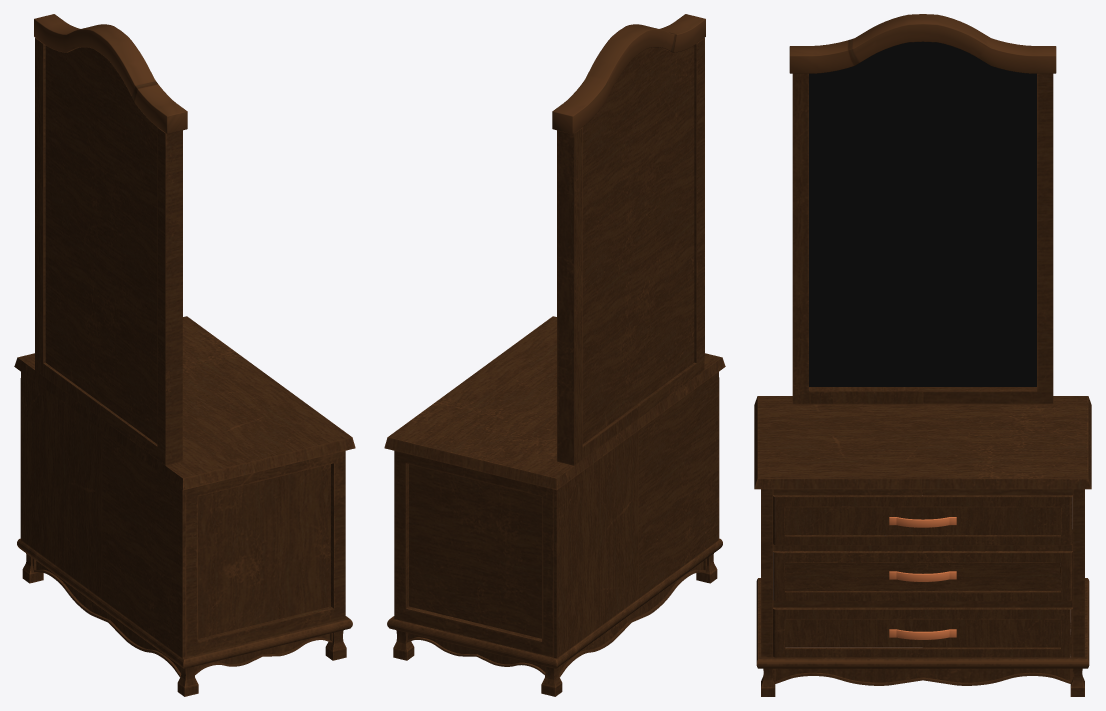
File: pbr_dressing_table__low_poly.glb
3 views of the same model, side by side, from view 1: azimuth 30°, elevation 25°; view 2: azimuth 150°, elevation 25°; view 3: azimuth 270°, elevation 25° (orthographic).
Parts seen in each view (by area): view 1: Cube, Cube_008; view 2: Cube, Cube_008; view 3: Cube_007, Cube, Cube_002, Cube_006, Cube_005, Cube_008, Cube_001, Cube_003, Cube_004.
Boxes of the visible parts, x1,y1,x2,y2 form: Cube: (14,38,355,696); Cube_008: (34,14,187,133); Cube: (384,38,725,696); Cube_008: (552,14,705,133); Cube_007: (809,41,1036,386); Cube: (754,73,1091,696); Cube_002: (773,607,1072,657); Cube_006: (773,495,1072,545); Cube_005: (773,551,1072,600); Cube_008: (789,14,1056,73); Cube_001: (889,571,956,581); Cube_003: (889,629,956,639); Cube_004: (889,517,956,527).
Size of the model in its own units: 0.7331 by 2.45 by 1.24.
Materials: 5 (3 with a texture image).
